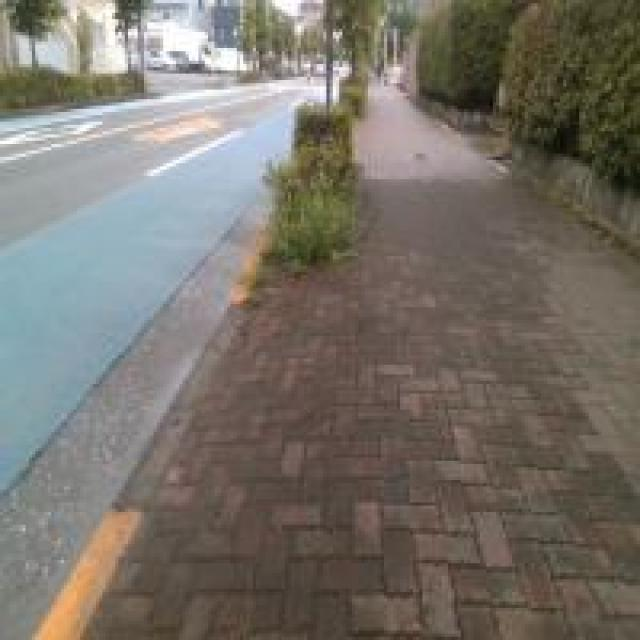Obstacle: (267, 104, 357, 271)
Road: (0, 80, 309, 639)
Sidewalk: (89, 87, 639, 639)
